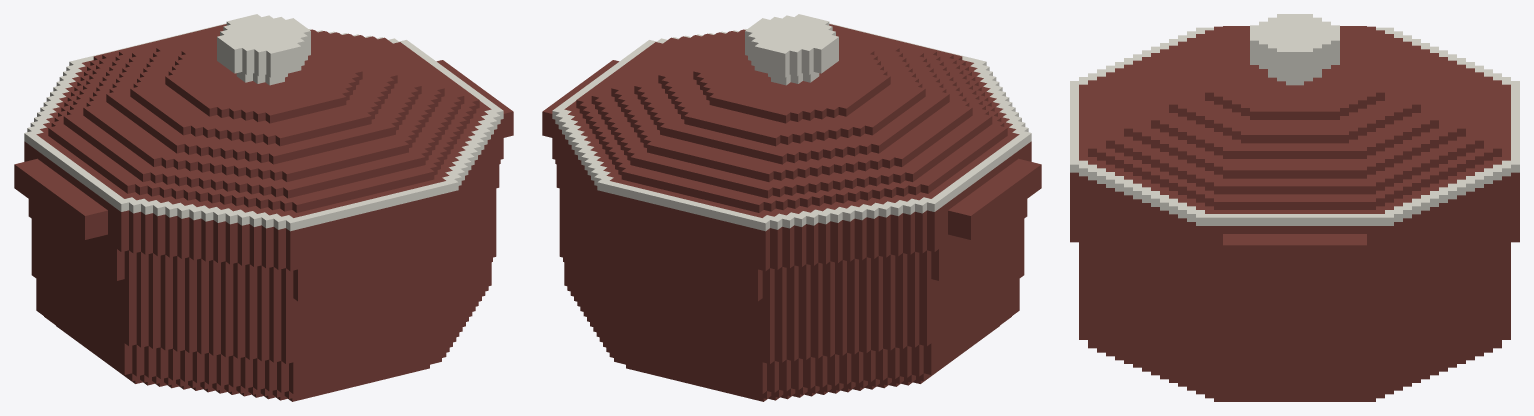
File: casserole.glb
3 views of the same model, side by side, from view 1: azimuth 30°, elevation 25°; view 2: azimuth 150°, elevation 25°; view 3: azimuth 270°, elevation 25° (orthographic).
Parts seen in each view (by area): view 1: casserole:compound; view 2: casserole:compound; view 3: casserole:compound.
Boxes of the visible parts, x1,y1,x2,y2 form: casserole:compound: (14,14,513,401); casserole:compound: (542,14,1041,401); casserole:compound: (1070,14,1519,401).
Size of the model in its own units: 0.224 by 0.14 by 0.2.
